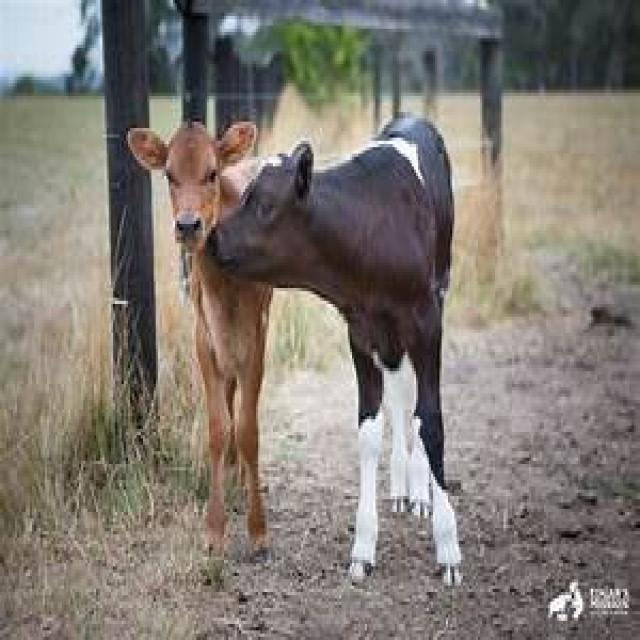animal: (216, 110, 465, 580), (127, 123, 277, 559)
